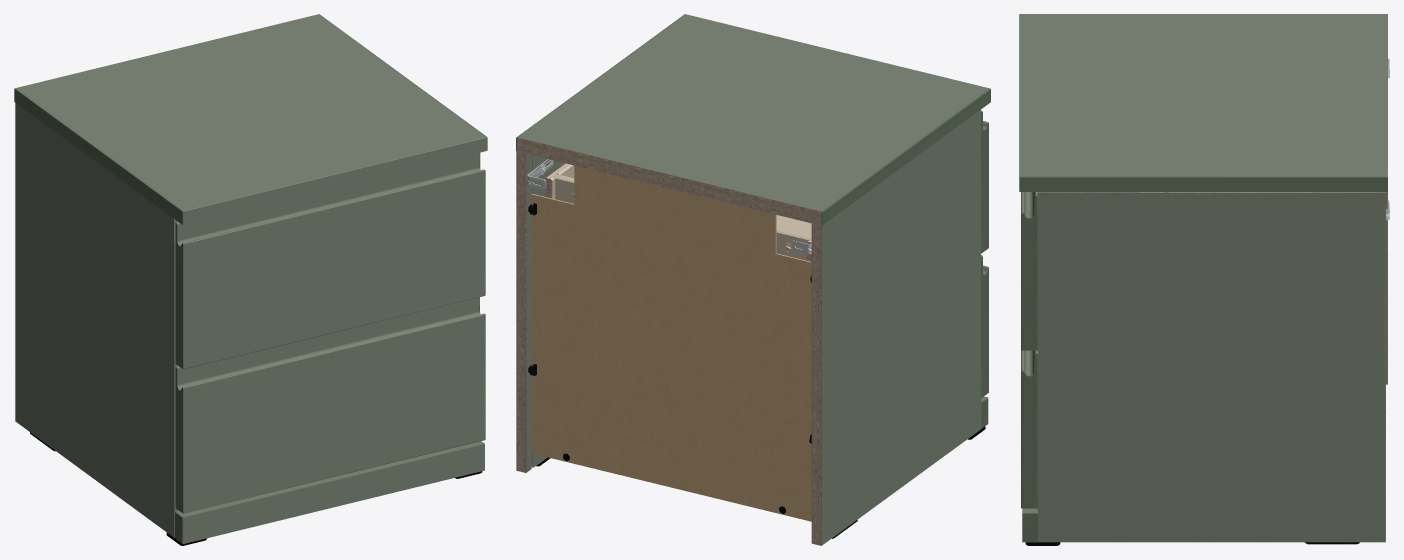
File: storklinta_nightstand_gray_green_with_2_.glb
3 views of the same model, side by side, from view 1: azimuth 30°, elevation 25°; view 2: azimuth 150°, elevation 25°; view 3: azimuth 270°, elevation 25° (orthographic). The views are drawn at different scales.
Visible parts, largest first — view 1: ASY_ART_10574644_S01_NV01, ASY_LPT01_10574644_S01_NV01 (×2); view 2: ASY_ART_10574644_S01_NV01, ASY_LPT01_10574644_S01_NV01 (×2); view 3: ASY_ART_10574644_S01_NV01, ASY_LPT01_10574644_S01_NV01 (×2).
Part boxes in pixels (x1,y1,x2,y2): ASY_ART_10574644_S01_NV01: [14, 14, 487, 545]; ASY_LPT01_10574644_S01_NV01 (×2): [175, 153, 485, 513]; ASY_ART_10574644_S01_NV01: [516, 14, 990, 545]; ASY_LPT01_10574644_S01_NV01 (×2): [544, 110, 988, 397]; ASY_ART_10574644_S01_NV01: [1019, 14, 1389, 545]; ASY_LPT01_10574644_S01_NV01 (×2): [1021, 192, 1037, 508].
Size of the model in its own units: 0.4997 by 0.5275 by 0.4783.
3 materials, 3 textured.
